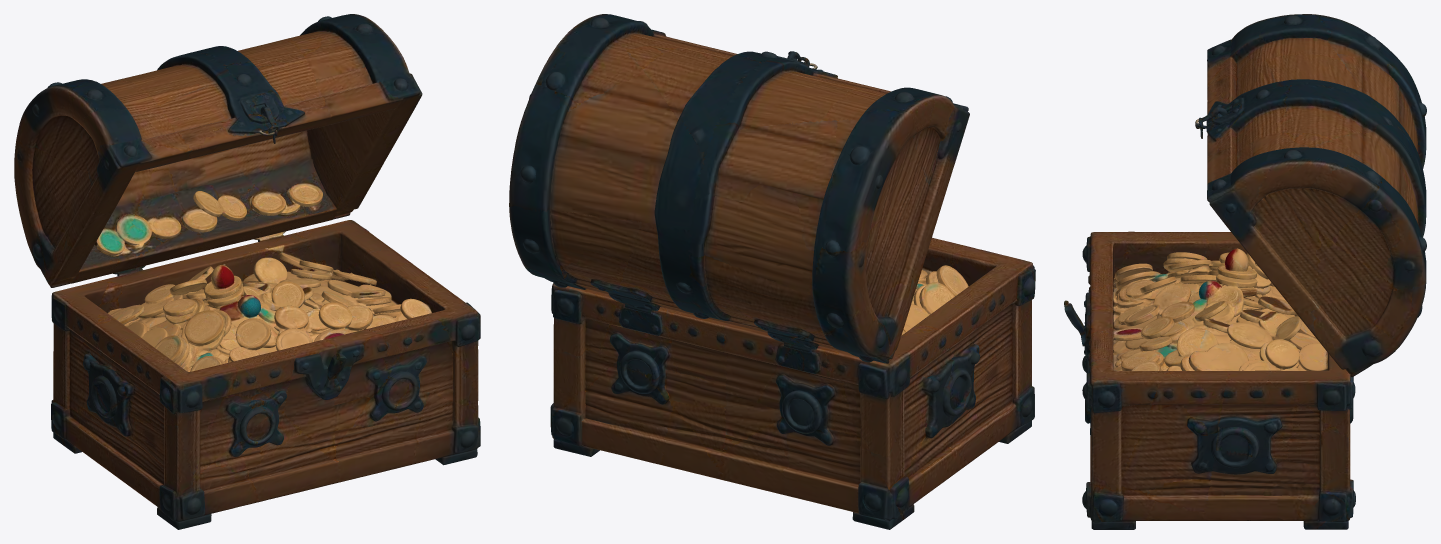
The model's file is treasure.glb.
3 views of the same model, side by side, from view 1: azimuth 30°, elevation 25°; view 2: azimuth 150°, elevation 25°; view 3: azimuth 270°, elevation 25° (orthographic). The views are drawn at different scales.
Size of the model in its own units: 1.72 by 1.9 by 1.68.
1 material, 1 textured.
